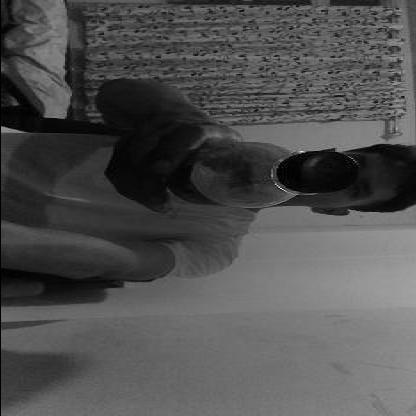plastic_bottles: (156, 145, 352, 205)
